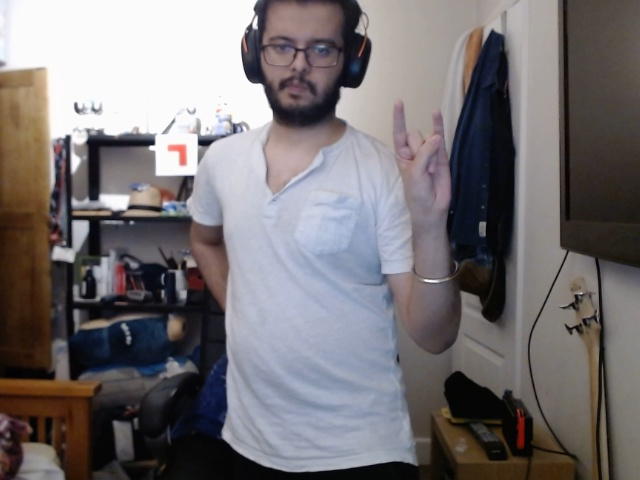Rock on: (388, 96, 458, 226)
